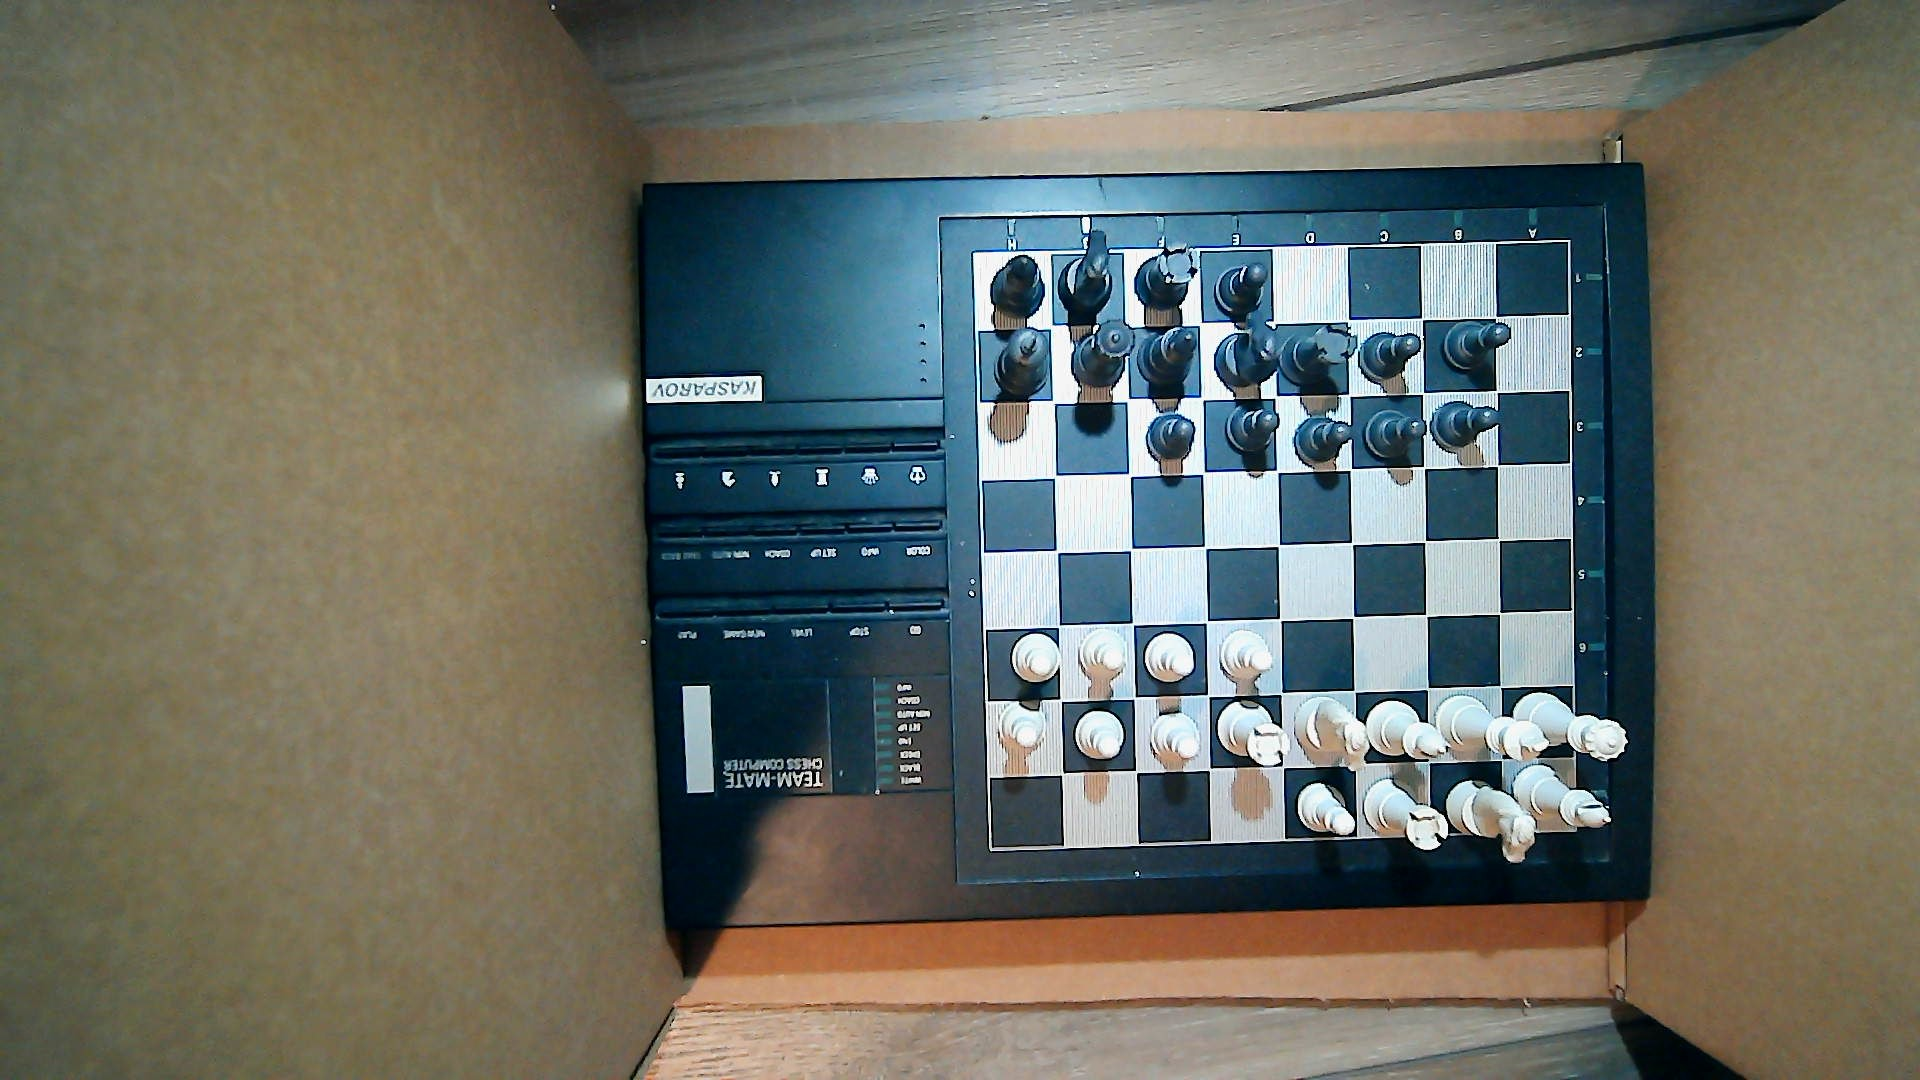bbishop: (988, 255, 1048, 318), (1138, 326, 1199, 386)
bking: (994, 324, 1054, 394)
bknight: (1058, 229, 1114, 315), (1213, 322, 1283, 386)
bpawn: (1444, 318, 1515, 372), (1361, 407, 1429, 460), (1429, 400, 1501, 450), (1357, 328, 1422, 381), (1294, 413, 1354, 467), (1212, 261, 1270, 316), (1139, 407, 1193, 462), (1225, 402, 1280, 454)
bqueen: (1072, 319, 1135, 389)
brook: (1280, 322, 1358, 386), (1134, 237, 1201, 309)
wbishop: (1513, 765, 1611, 829), (1365, 699, 1448, 761)
wking: (1436, 694, 1548, 765)
wknight: (1447, 777, 1536, 865), (1292, 698, 1367, 771)
wpawn: (1295, 781, 1357, 840), (1216, 628, 1275, 687), (1007, 632, 1065, 684), (1076, 626, 1131, 680), (1072, 709, 1127, 761), (1145, 630, 1196, 684), (1149, 712, 1203, 764), (994, 702, 1050, 750)
wqueen: (1513, 690, 1629, 764)
wrook: (1362, 778, 1451, 851), (1215, 700, 1292, 767)
